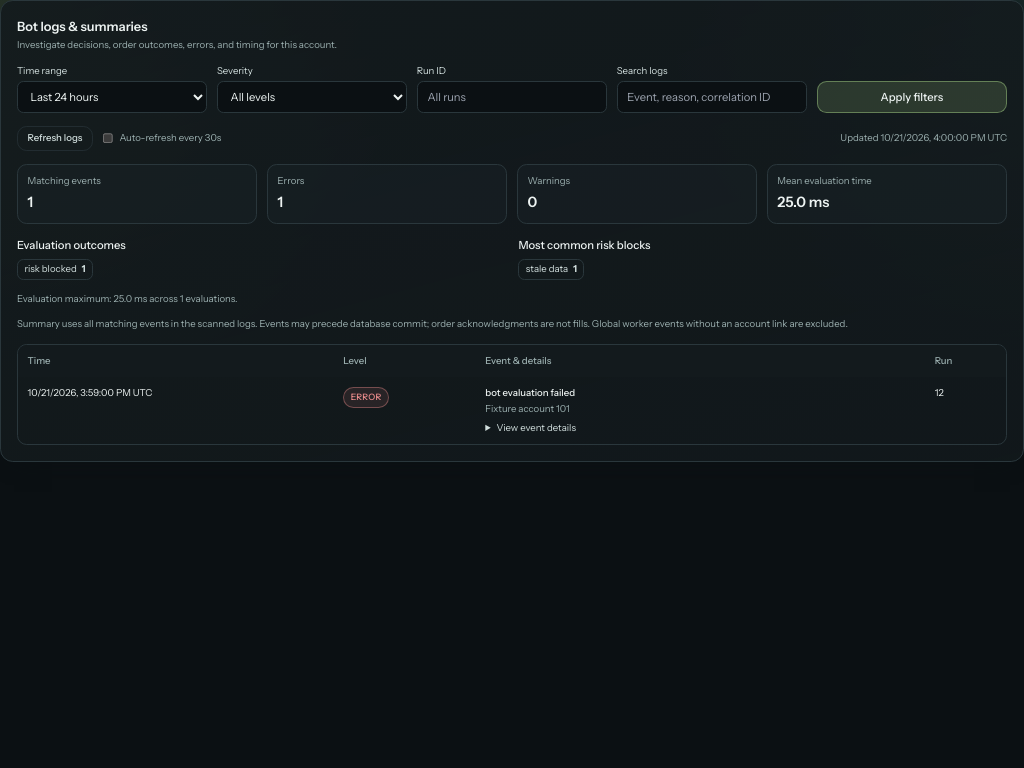
Test case: bot diagnostics › loads account logs and shows summaries and inspectable correlation details
The image size is (1024, 768).
Expected: the text "Fixture account 101" is shown, [485, 403, 570, 414]
Expected: the text "25.0 ms" is shown, [777, 193, 830, 211]
What coordinates should you click on to do the following:
click the heading "View event details"
I would click on:
 (536, 427)
Its box is [496, 422, 576, 433].
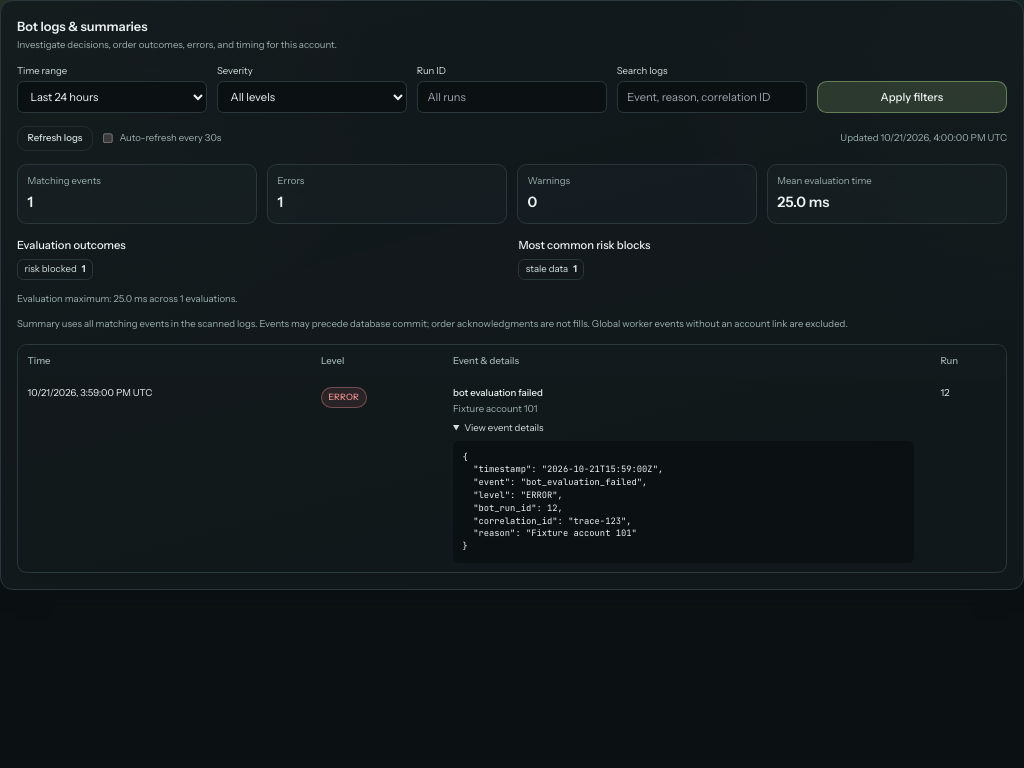
Result: the text "\"correlation_id\": \"trace-123\"" is shown at [463, 451, 663, 552]
